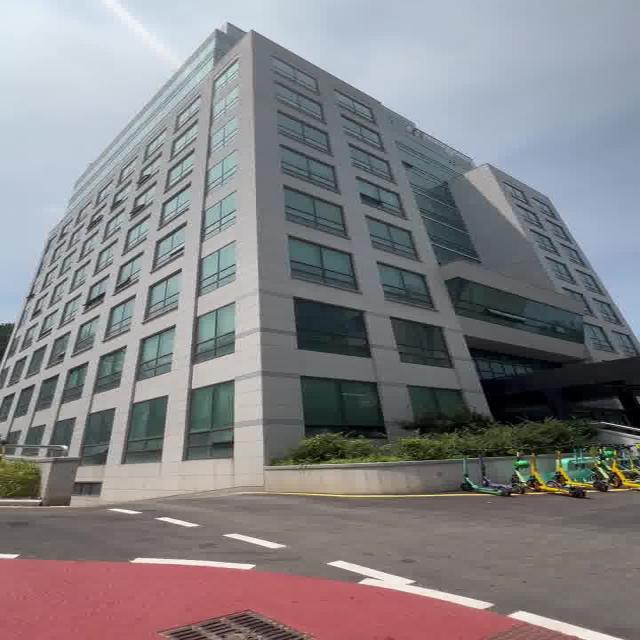building: (18, 34, 620, 437)
